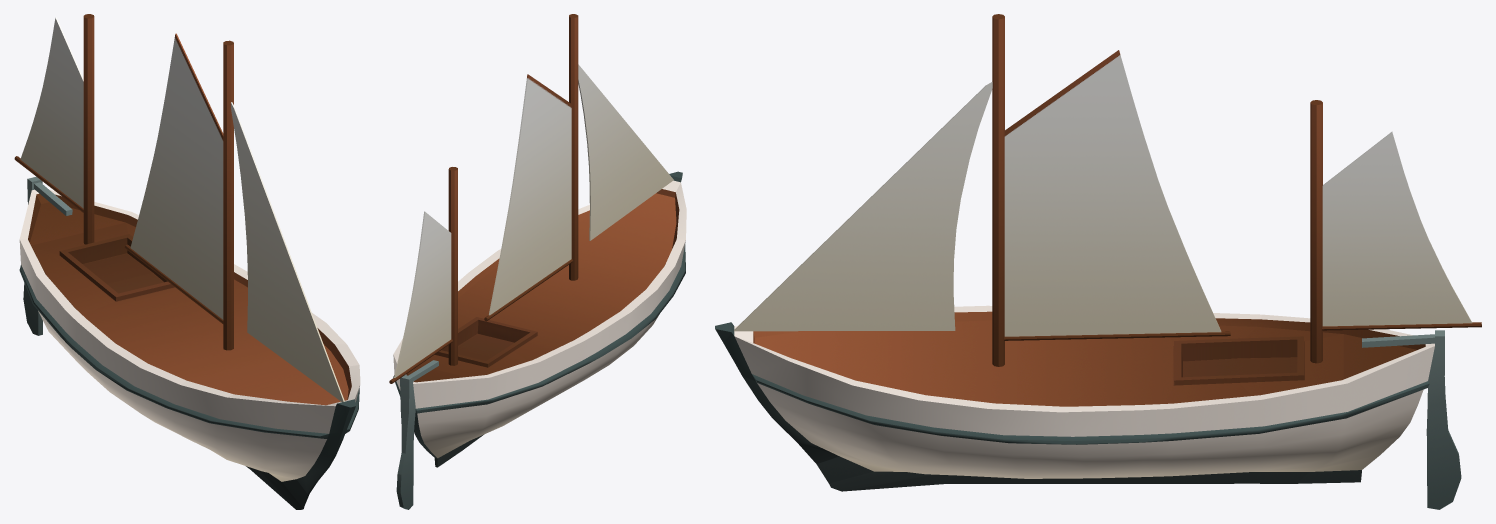
File: boat_v2.fbx
3 views of the same model, side by side, from view 1: azimuth 30°, elevation 25°; view 2: azimuth 150°, elevation 25°; view 3: azimuth 270°, elevation 25° (orthographic). The views are drawn at different scales.
Visible parts, largest first — view 1: boat2, grandVoile, foc, tapecul, grandMat, matDArtimon, gouvernaille; view 2: boat2, grandVoile, foc, tapecul, grandMat, gouvernaille, matDArtimon; view 3: boat2, grandVoile, foc, tapecul, grandMat, gouvernaille, matDArtimon.
Part boxes in pixels (x1,y1,x2,y2): boat2: (19,189,360,509); grandVoile: (130,33,223,319); foc: (231,102,344,402); tapecul: (20,17,83,208); grandMat: (125,40,233,350); matDArtimon: (14,14,94,244); gouvernaille: (23,176,72,335); boat2: (393,171,686,467); grandVoile: (489,74,571,315); foc: (578,64,673,240); tapecul: (394,211,451,377); grandMat: (484,14,578,321); gouvernaille: (396,360,438,509); matDArtimon: (389,167,457,383); boat2: (715,305,1434,491); grandVoile: (1004,50,1221,336); foc: (734,82,992,331); tapecul: (1322,131,1471,326); grandMat: (992,14,1230,366); gouvernaille: (1362,330,1461,509); matDArtimon: (1310,100,1481,363).
Size of the model in its own units: 2.88 by 5.92 by 8.36.
